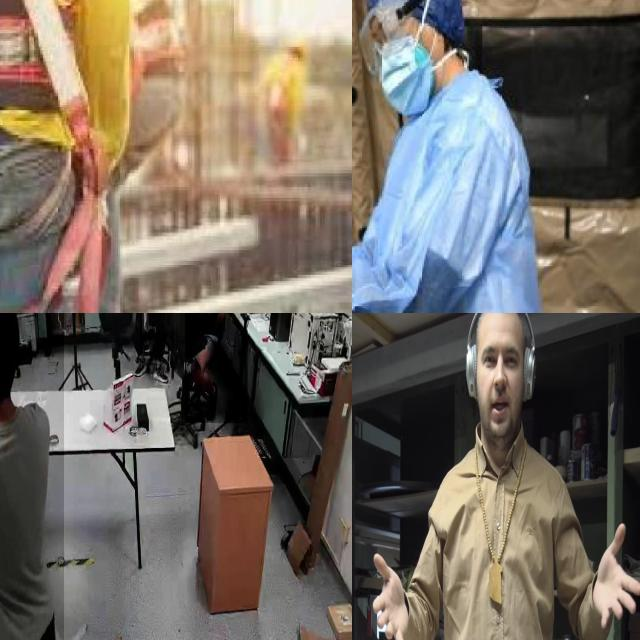Ear-protection: (464, 313, 541, 439)
Harness: (0, 0, 108, 313)
face_mask: (364, 14, 452, 113)
glasses: (352, 0, 411, 71)
hand_noglove: (214, 313, 225, 332), (142, 313, 149, 332)
person: (388, 313, 620, 640), (352, 0, 590, 313), (0, 313, 64, 640), (185, 313, 248, 424), (139, 313, 174, 371)
shoes: (149, 356, 170, 391), (133, 358, 148, 382)
